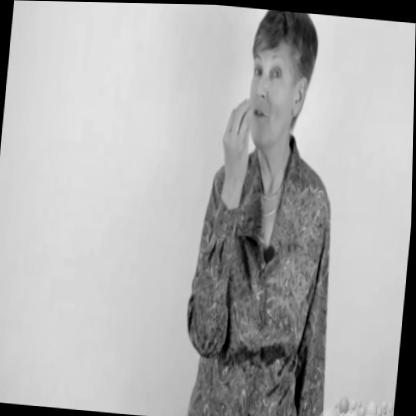Food: (216, 5, 325, 195)
